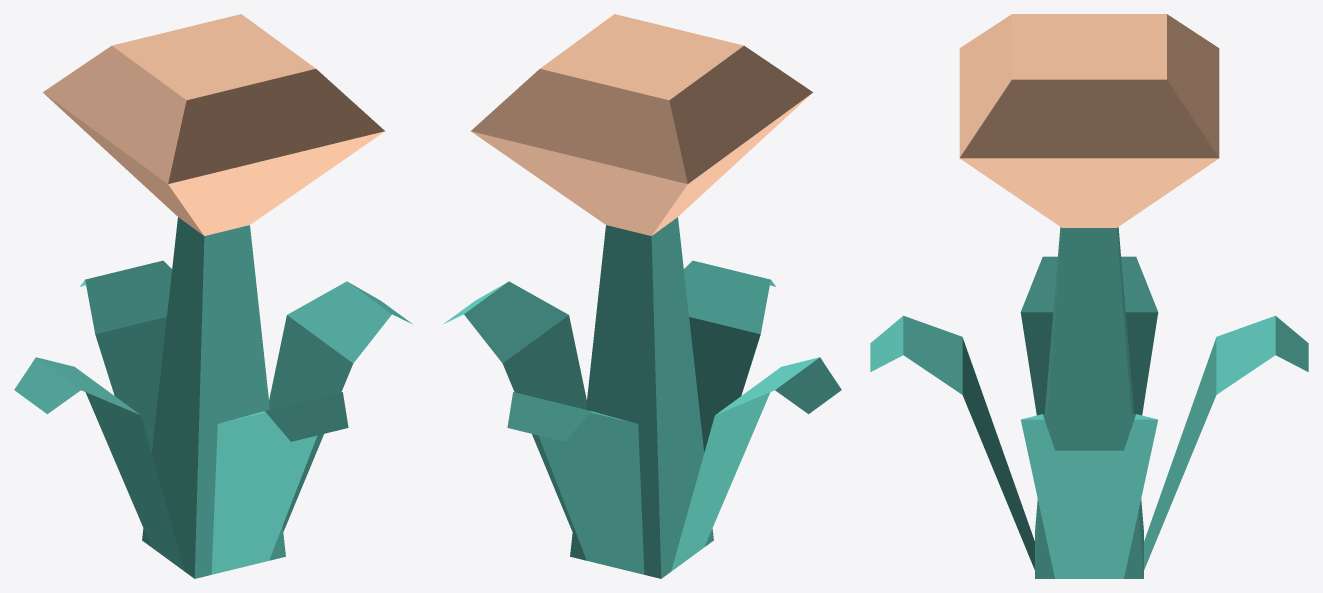
The model's file is flower_beige2.obj.
The picture shows the model from 3 angles, left to right: view 1: azimuth 30°, elevation 25°; view 2: azimuth 150°, elevation 25°; view 3: azimuth 270°, elevation 25°; orthographic projection. The views are drawn at different scales.
Parts seen in each view (by area): view 1: flower_beige2; view 2: flower_beige2; view 3: flower_beige2.
Part boxes in pixels (bbox=[...]): flower_beige2: bbox=[14, 14, 412, 578]; flower_beige2: bbox=[443, 14, 841, 578]; flower_beige2: bbox=[870, 14, 1308, 578].
Size of the model in its own units: 1.71 by 2.2 by 1.71.
